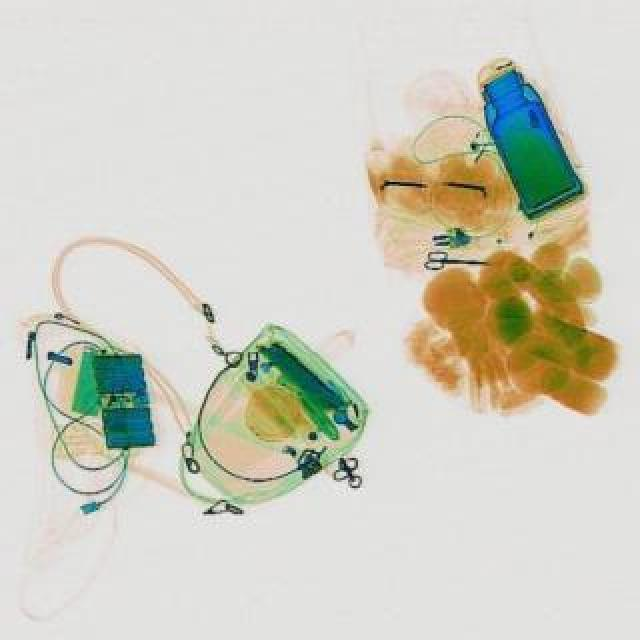pliers: (424, 250, 490, 270)
